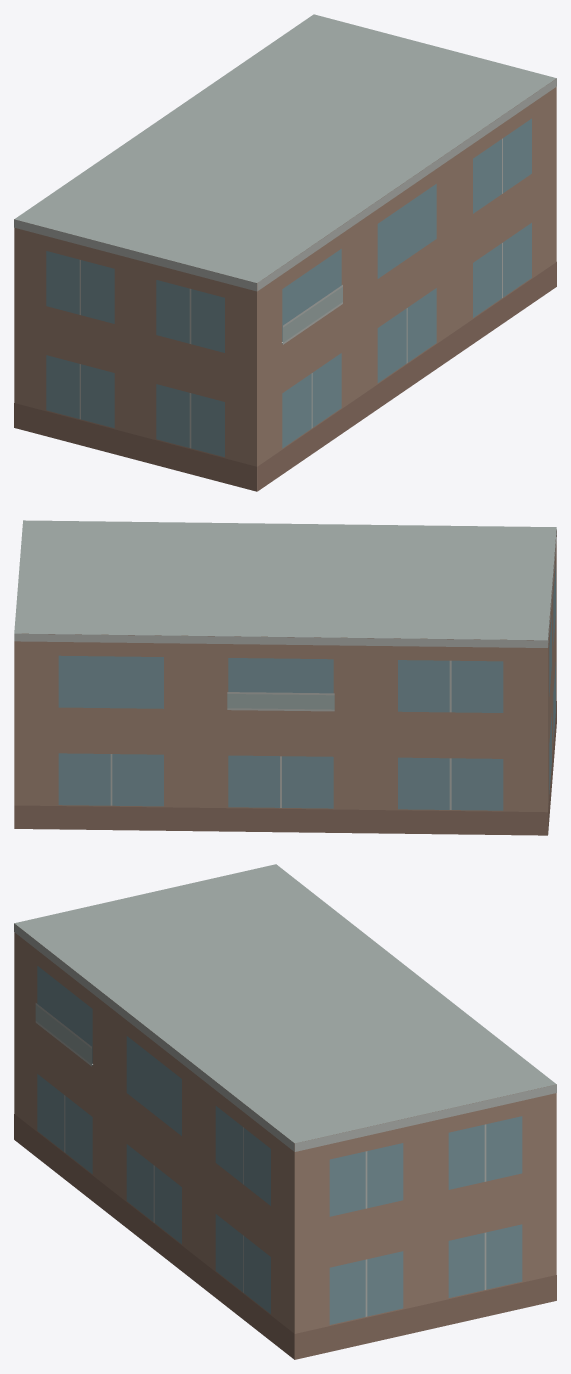
Rendered from survey-upis-32721162.glb.
3 views of the same model, one above another, from view 1: azimuth 30°, elevation 25°; view 2: azimuth 150°, elevation 25°; view 3: azimuth 270°, elevation 25° (orthographic). The views are drawn at different scales.
Parts seen in each view (by area): view 1: survey-upis-32721162.tmp; view 2: survey-upis-32721162.tmp; view 3: survey-upis-32721162.tmp.
Boxes of the visible parts, bbox=[...] form: survey-upis-32721162.tmp: bbox=[14, 14, 556, 491]; survey-upis-32721162.tmp: bbox=[14, 520, 556, 835]; survey-upis-32721162.tmp: bbox=[14, 864, 556, 1359].
Bounding box in the file's own units: 16.9 × 6.1 × 13.88.
